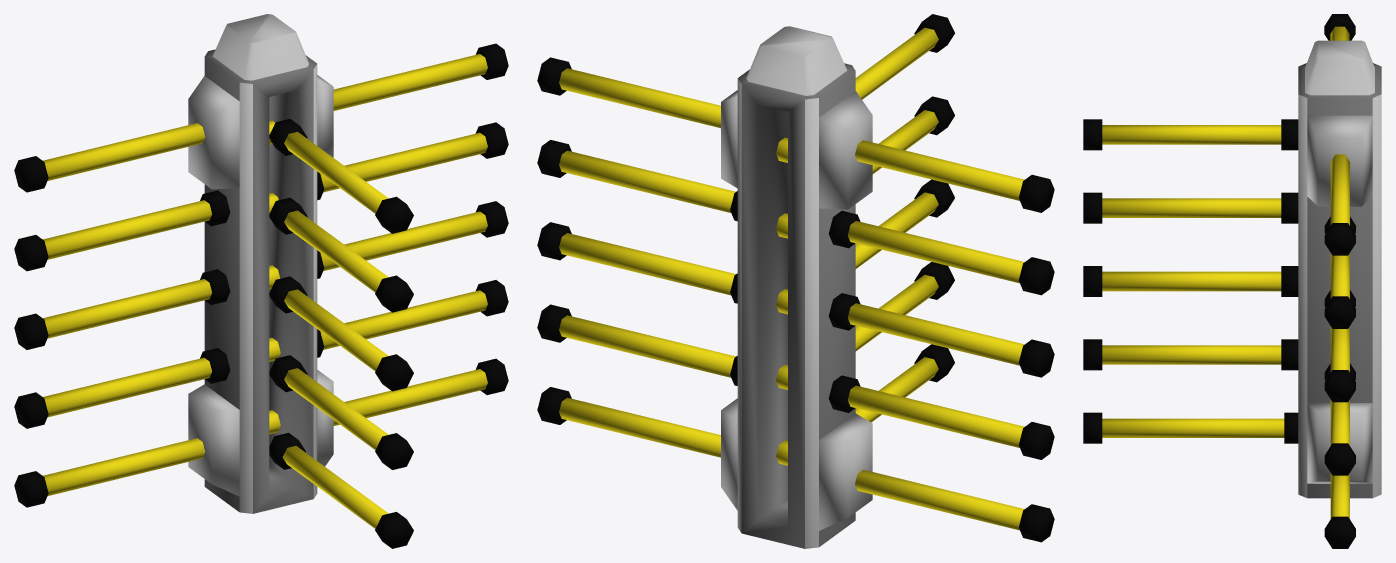
File: LastWall-3.fbx
The picture shows the model from 3 angles, left to right: view 1: azimuth 30°, elevation 25°; view 2: azimuth 150°, elevation 25°; view 3: azimuth 270°, elevation 25°; orthographic projection. The views are drawn at different scales.
Parts seen in each view (by area): view 1: Cube.003; view 2: Cube.003; view 3: Cube.003.
Part boxes in pixels (x1,y1,x2,y2): Cube.003: [14, 14, 508, 548]; Cube.003: [537, 14, 1054, 548]; Cube.003: [1083, 14, 1381, 548].
Size of the model in its own units: 1.28 by 1.18 by 0.7442.
